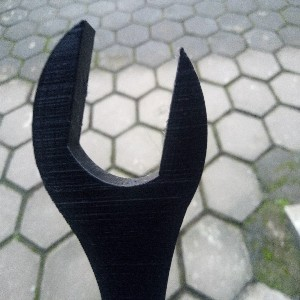spanner: (31, 18, 209, 300)
